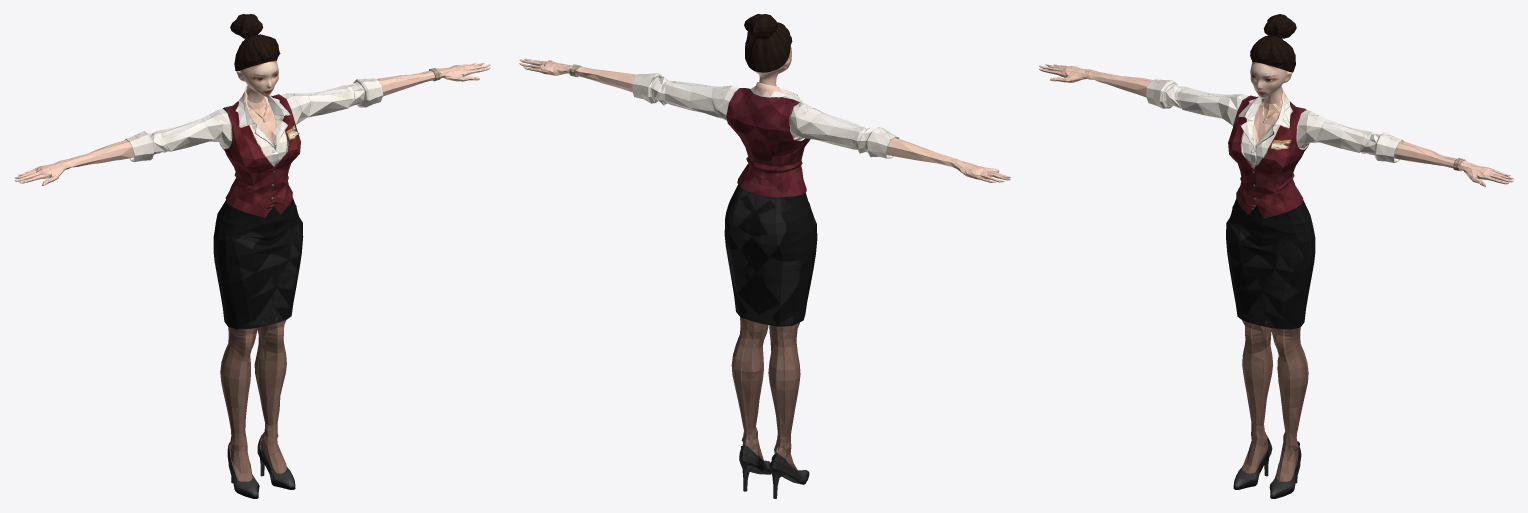
The model's file is Cashier_ReferenceMatch.fbx.
3 views of the same model, side by side, from view 1: azimuth 30°, elevation 25°; view 2: azimuth 150°, elevation 25°; view 3: azimuth 330°, elevation 25° (orthographic). The views are drawn at different scales.
Visible parts, largest first — view 1: Cashier_TPose; view 2: Cashier_TPose; view 3: Cashier_TPose.
Part boxes in pixels (<box>): Cashier_TPose: <box>14,14,490,498</box>; Cashier_TPose: <box>519,14,1010,498</box>; Cashier_TPose: <box>1039,14,1513,498</box>.
Size of the model in its own units: 184 by 172 by 24.93.
1 material, 1 textured.
